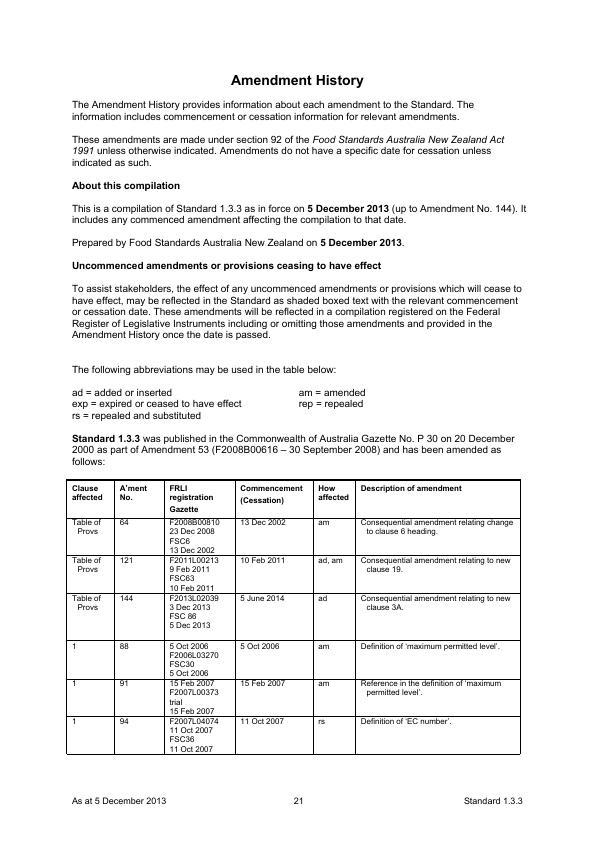table: (63, 474, 526, 762)
text: (66, 280, 530, 344), (68, 178, 531, 229), (65, 360, 378, 423), (69, 131, 509, 174), (66, 431, 522, 468), (70, 234, 411, 275), (70, 97, 478, 124), (228, 67, 365, 92)
